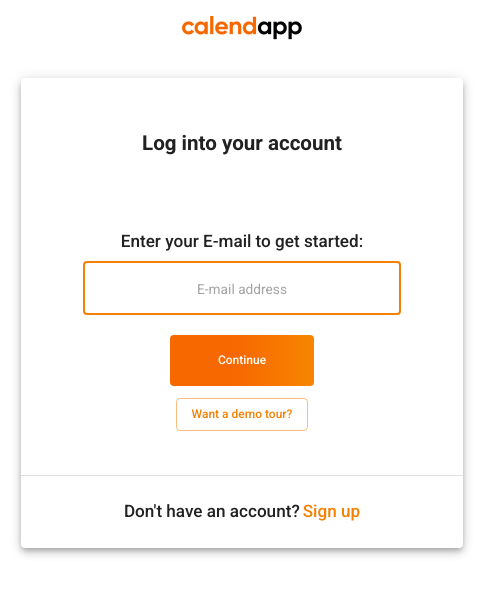
Scenario: Display login, sign up pages › Should be able to enter email and click continue button
This screenshot has width=485, height=594.
In the field with id "email": (242, 289) [83,262,401,315], type "uesttser@gmail.com"
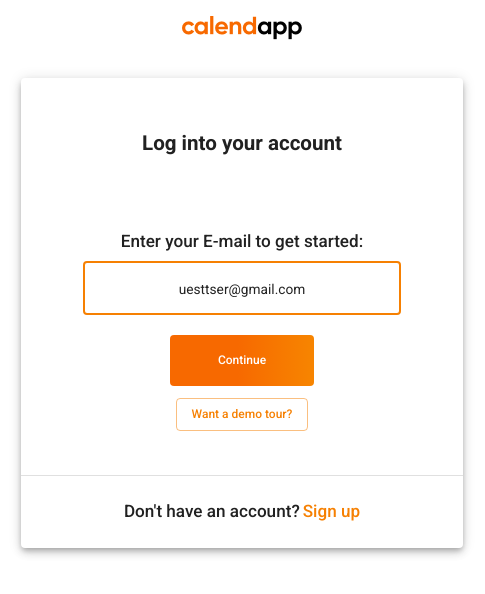
Click the button "Continue": (242, 361) [170,335,314,386]
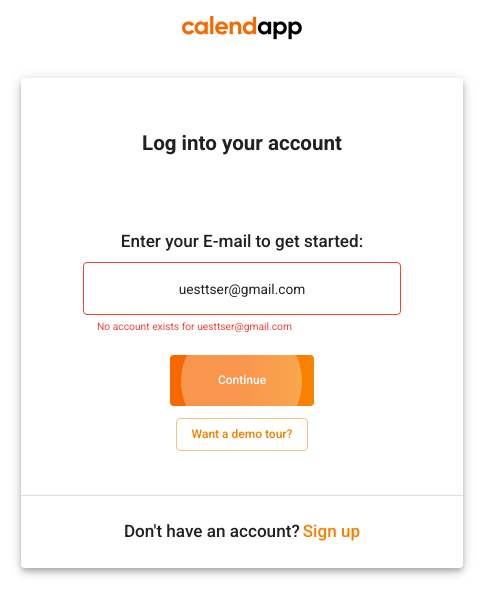
Now the text "uesttser@gmail.com" is shown, box [97,320,292,333]
